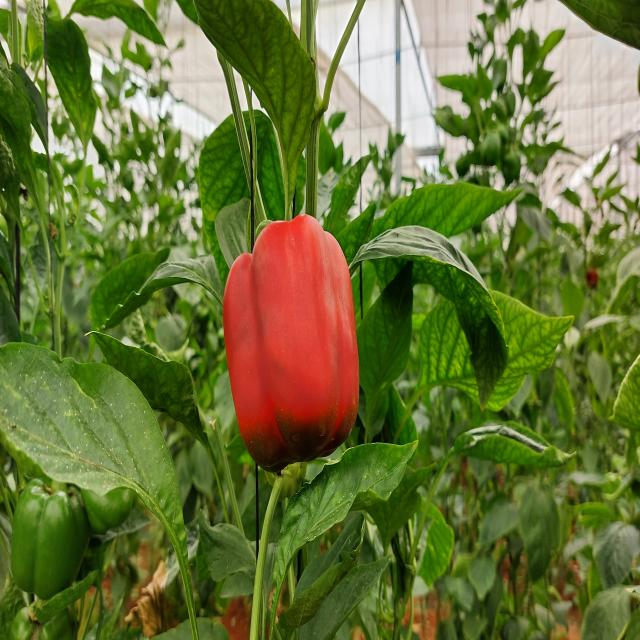Red-Ready-to-Harvest: (220, 202, 363, 482)
